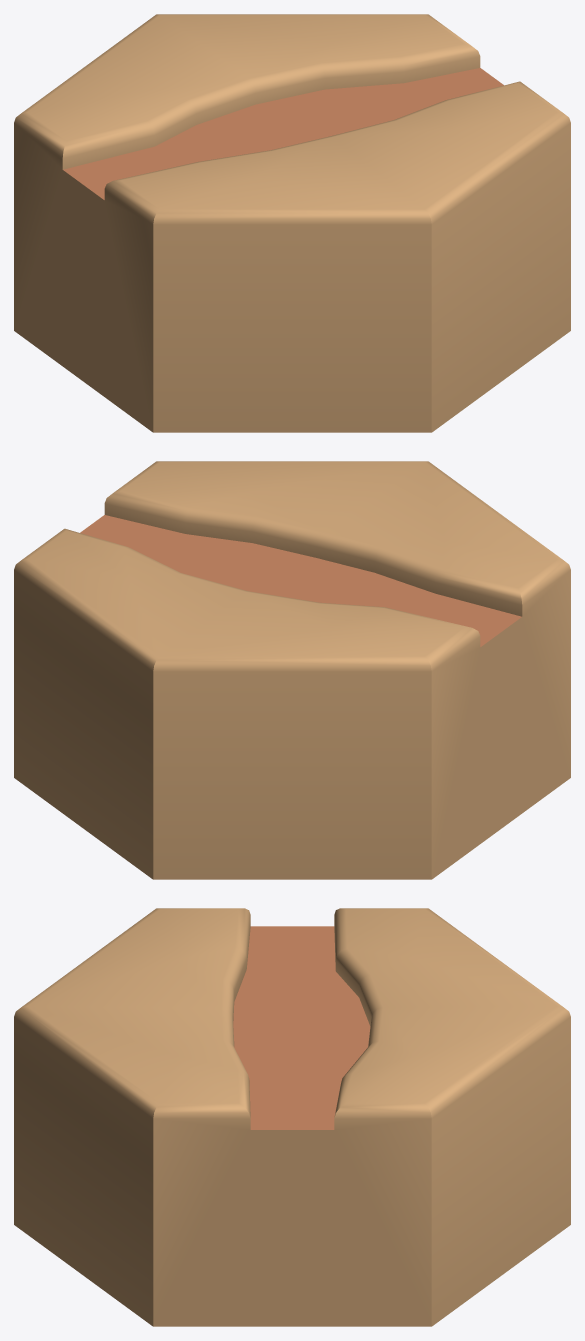
Rendered from hex_sand_roadB.glb.
3 renders of one model, top to bottom at view 1: azimuth 30°, elevation 25°; view 2: azimuth 150°, elevation 25°; view 3: azimuth 270°, elevation 25°, orthographic.
Parts seen in each view (by area): view 1: hex_sand_roadB; view 2: hex_sand_roadB; view 3: hex_sand_roadB.
Part boxes in pixels (x1=…): hex_sand_roadB: x1=14, y1=14, x2=570, y2=432; hex_sand_roadB: x1=14, y1=461, x2=570, y2=879; hex_sand_roadB: x1=14, y1=908, x2=570, y2=1326.
Bounding box in the file's own units: 2 × 1 × 2.31.
